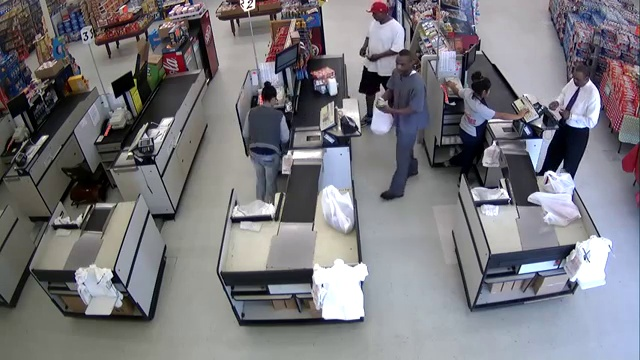face: (395, 56, 411, 75), (571, 71, 587, 87), (372, 8, 384, 22)
